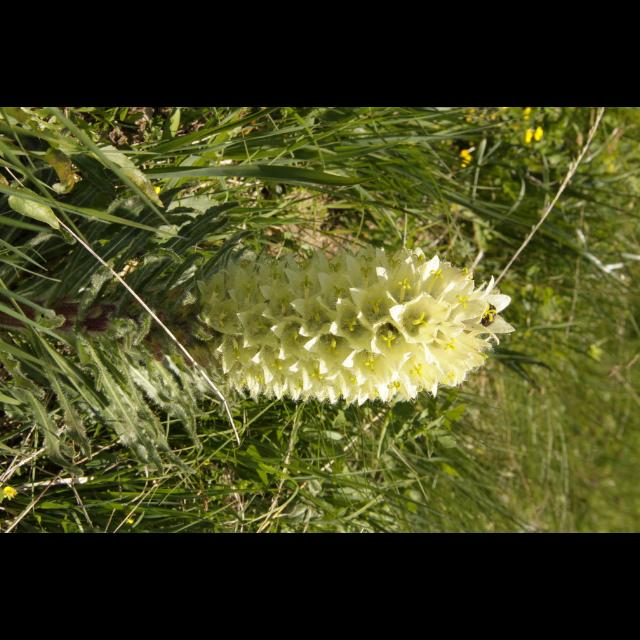Flower: (188, 221, 514, 427)
